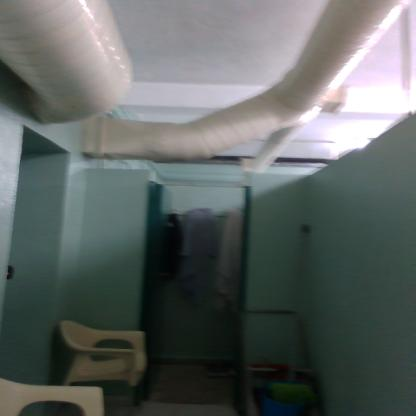open: (135, 160, 260, 387)
